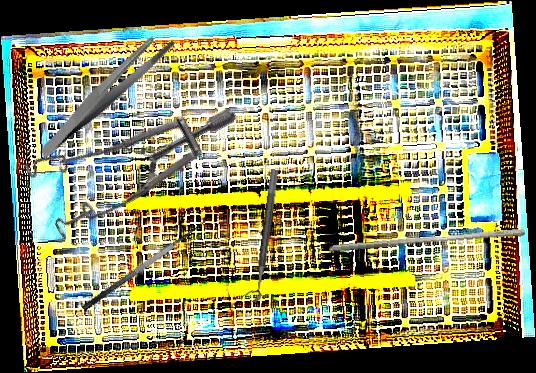Dressing Forceps: (17, 27, 195, 160)
Fixation Ring: (240, 167, 280, 303)
Pusher: (328, 221, 526, 260)
Spatula Surgical: (74, 210, 211, 313)
Speculum: (2, 29, 240, 278)
